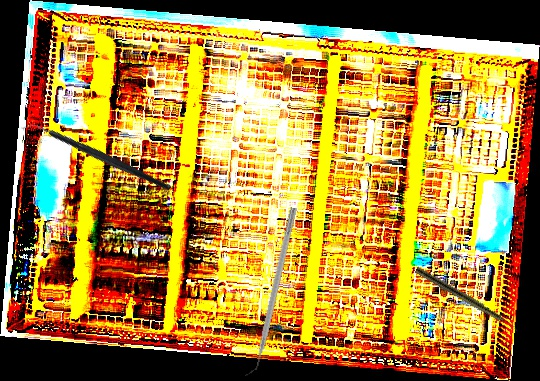Chopper: (19, 81, 173, 234), (242, 204, 297, 380)
Handpiece: (413, 266, 521, 333)
